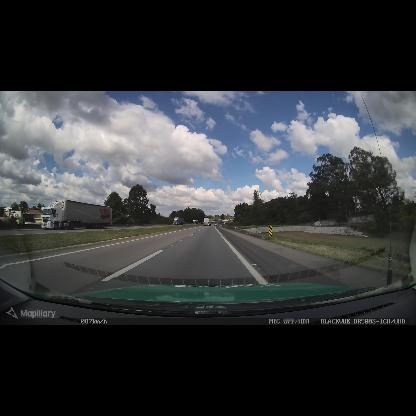O-MP: (269, 225, 273, 237)
